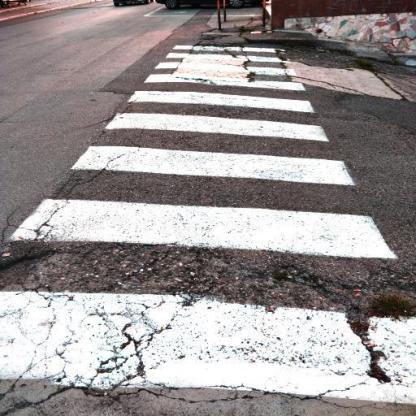crosswalk: (61, 110, 365, 190), (136, 58, 310, 96)
